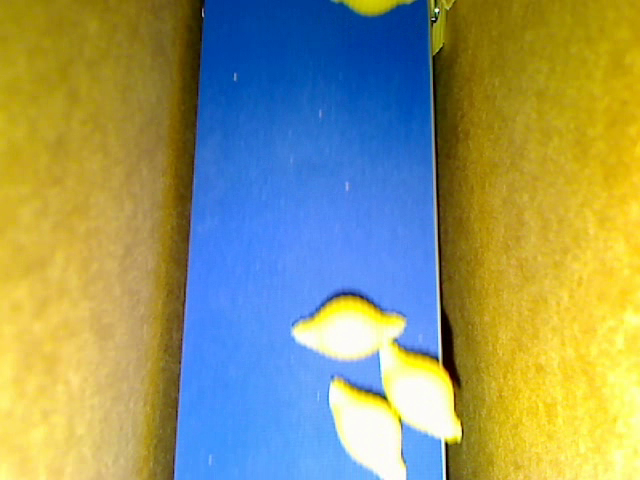penne: (431, 1, 445, 61), (442, 1, 457, 13)
shell: (377, 334, 463, 444), (327, 374, 407, 479), (285, 293, 405, 359), (327, 1, 419, 14)
